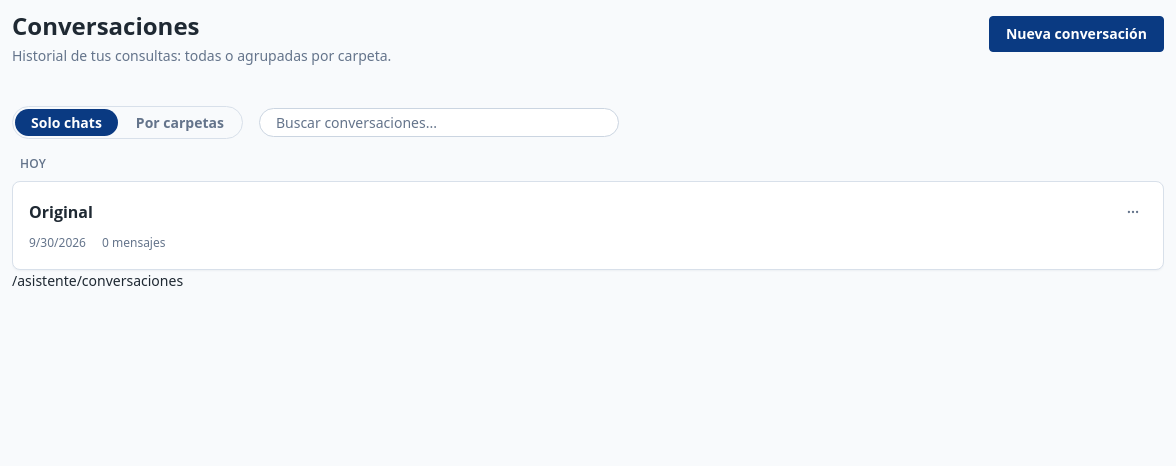
Test case: Conversaciones › renombra inline desde el menu
Click the button named "Opciones de Original" at (1133, 212), box x1=1119 y1=198 x2=1147 y2=226
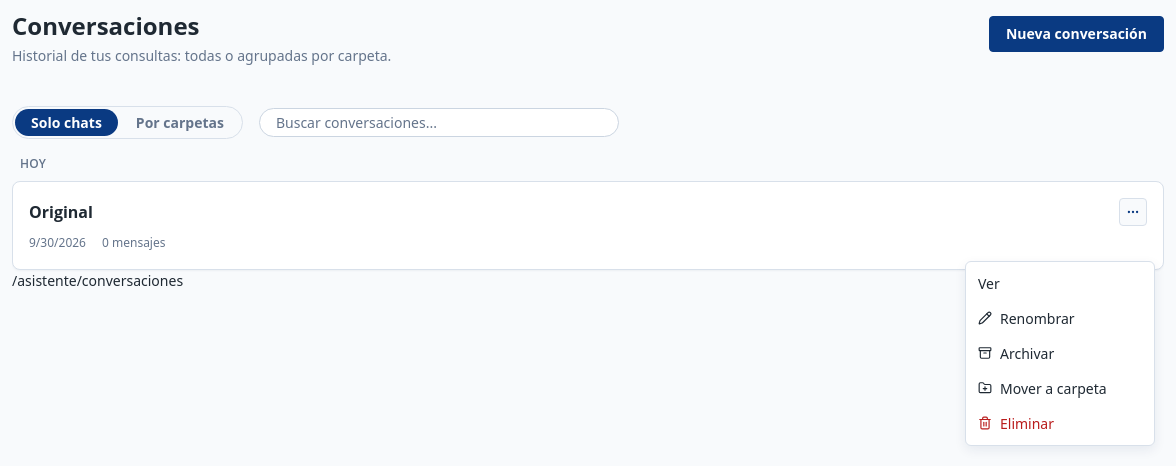
Click the button "Renombrar" at (1060, 318), box x1=970 y1=301 x2=1150 y2=336
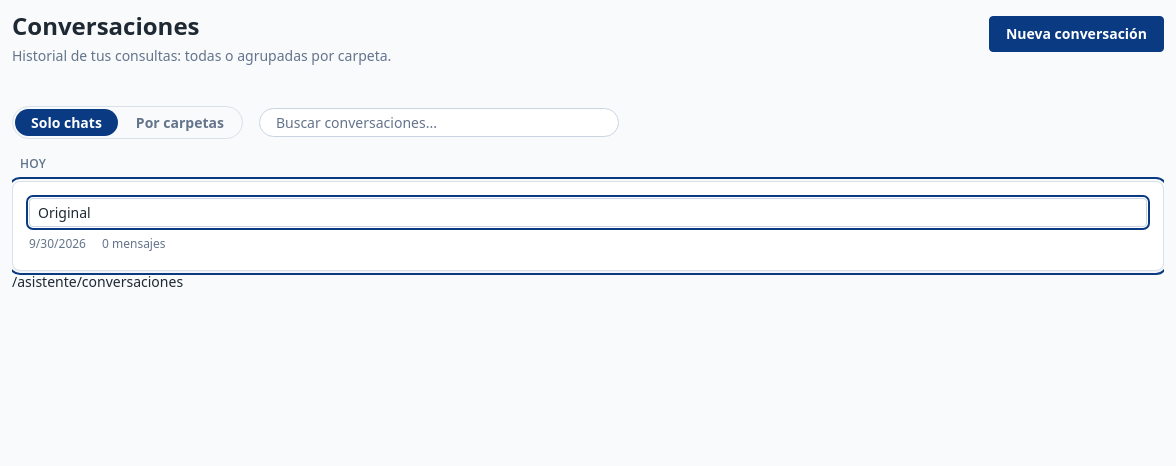
Replace the text in the field named "Nombre de la conversacion" with "Renombrado" at (588, 213), box x1=29 y1=198 x2=1147 y2=227
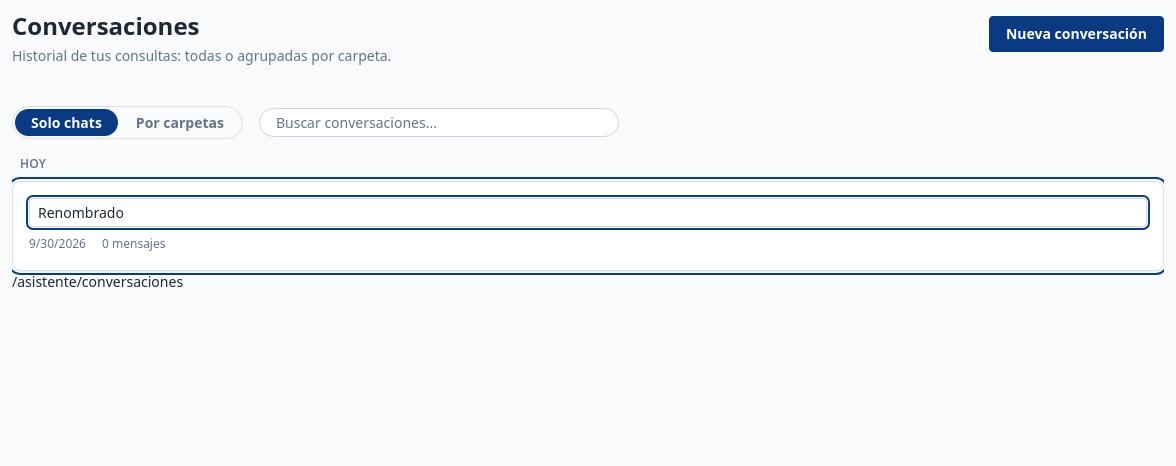
Press Enter in the field named "Nombre de la conversacion", box x1=29 y1=198 x2=1147 y2=227
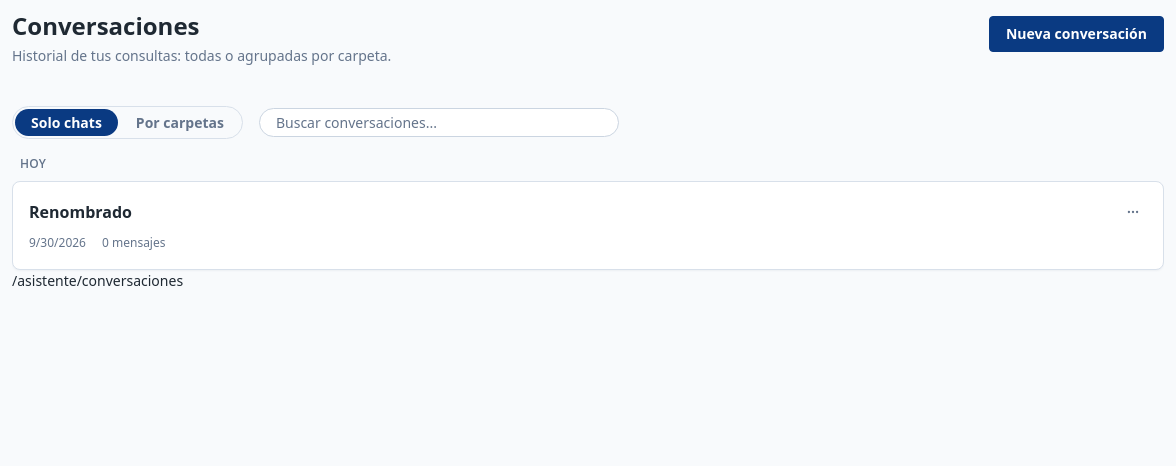
Check: the heading "Renombrado" is shown, box x1=29 y1=201 x2=132 y2=223
